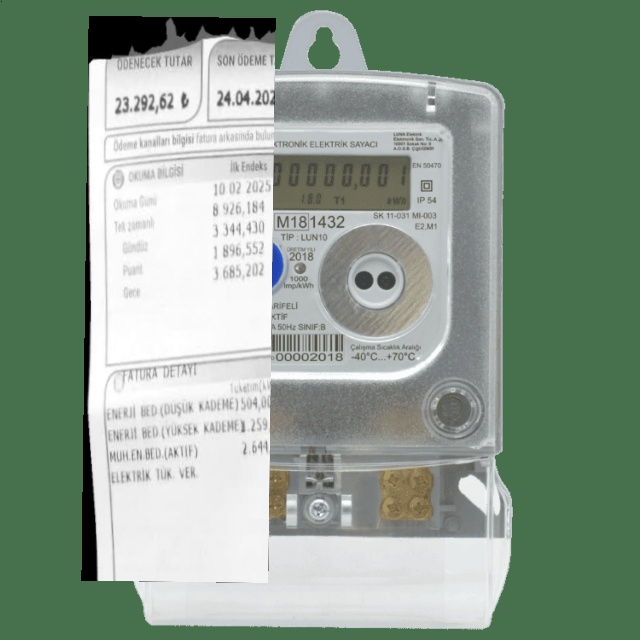electricity-bill: (80, 15, 276, 582)
